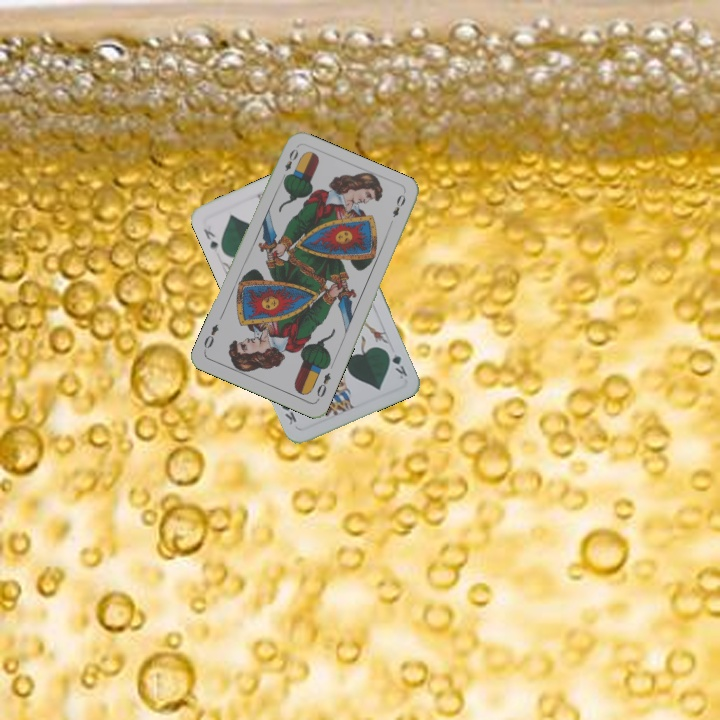EO: (277, 145, 301, 183), (313, 368, 333, 403)
GK: (382, 346, 410, 382), (199, 225, 221, 254)
